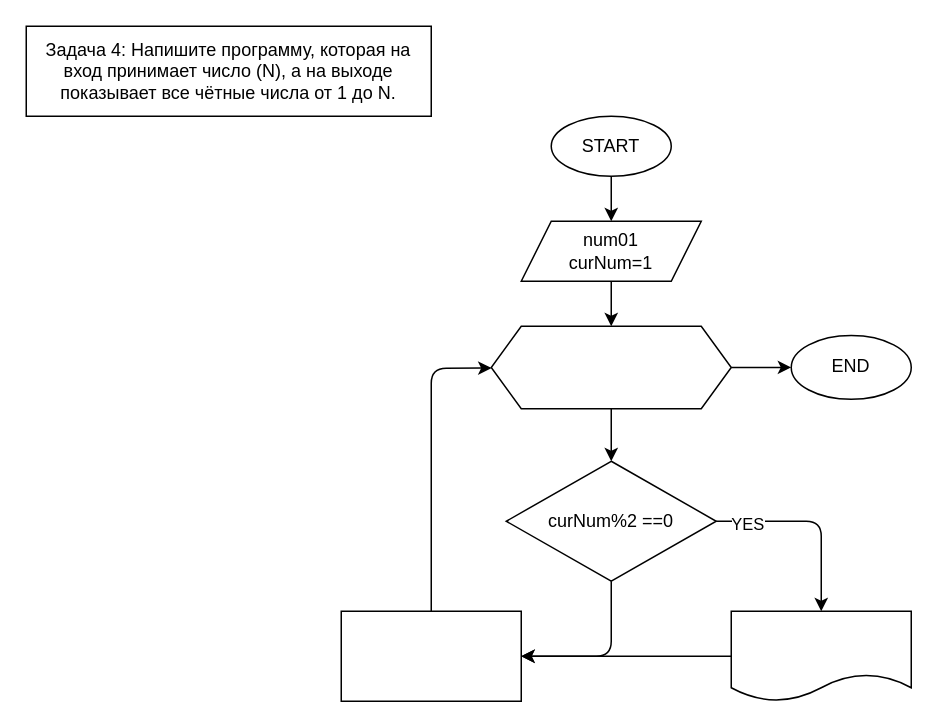
The diagram is 938 pixels wide and 728 high, and some of its shapes have lost their labels. Each missing label, with the centre of its shape:
.Write(curNum): (820,655)
curNum++: (430,655)
while curNum<=num01: (610,367)
